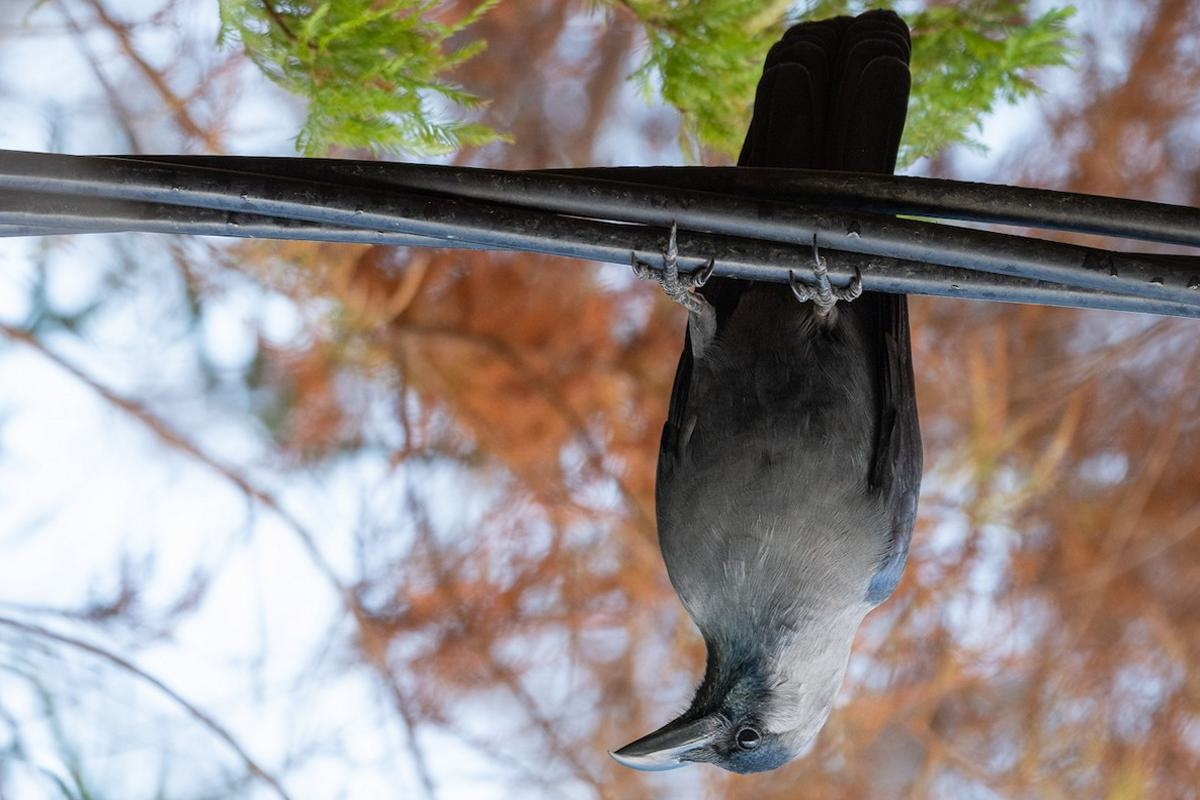crow: (594, 1, 930, 780)
